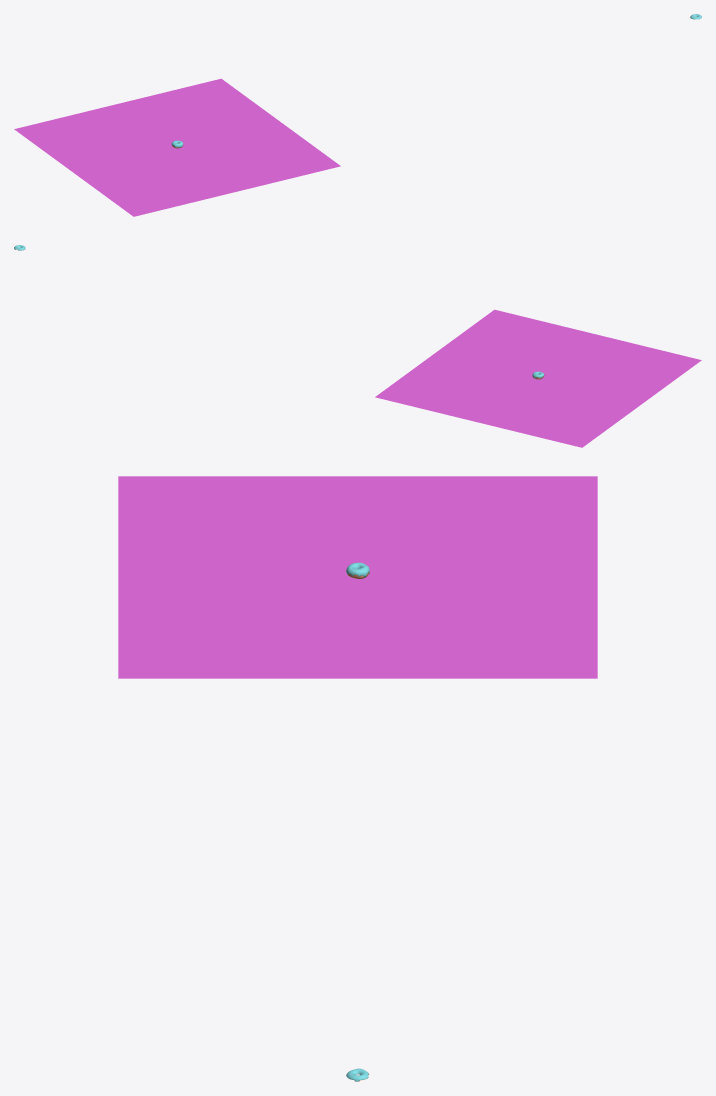
Rendered from donut.gltf.glb.
3 views of the same model, one above another, from view 1: azimuth 30°, elevation 25°; view 2: azimuth 150°, elevation 25°; view 3: azimuth 270°, elevation 25° (orthographic). The views are drawn at different scales.
Visible parts, largest first — view 1: Plane; view 2: Plane; view 3: Plane.
Part boxes in pixels (<box>): Plane: <box>14,78,340,216</box>; Plane: <box>375,309,701,447</box>; Plane: <box>118,476,597,678</box>.
Bounding box in the file's own units: 6.05 × 0.0529 × 2.
